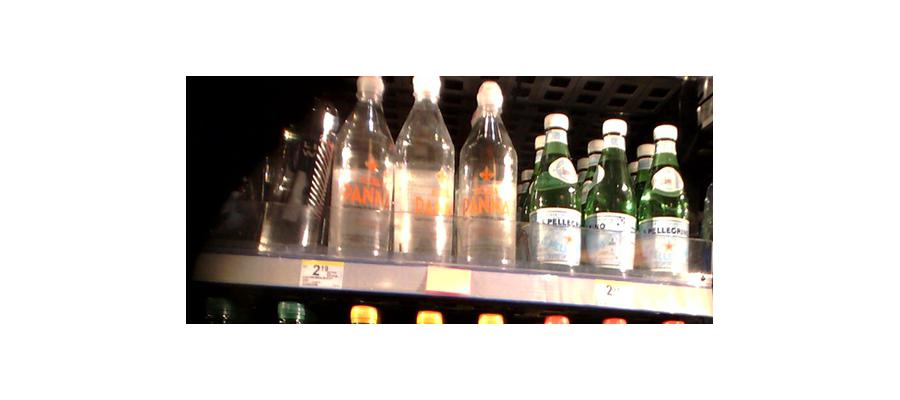bottle: (390, 79, 455, 262), (457, 87, 519, 269), (331, 76, 391, 258), (526, 110, 587, 271), (256, 104, 312, 255), (292, 79, 339, 252), (642, 117, 690, 281), (587, 121, 637, 277)
